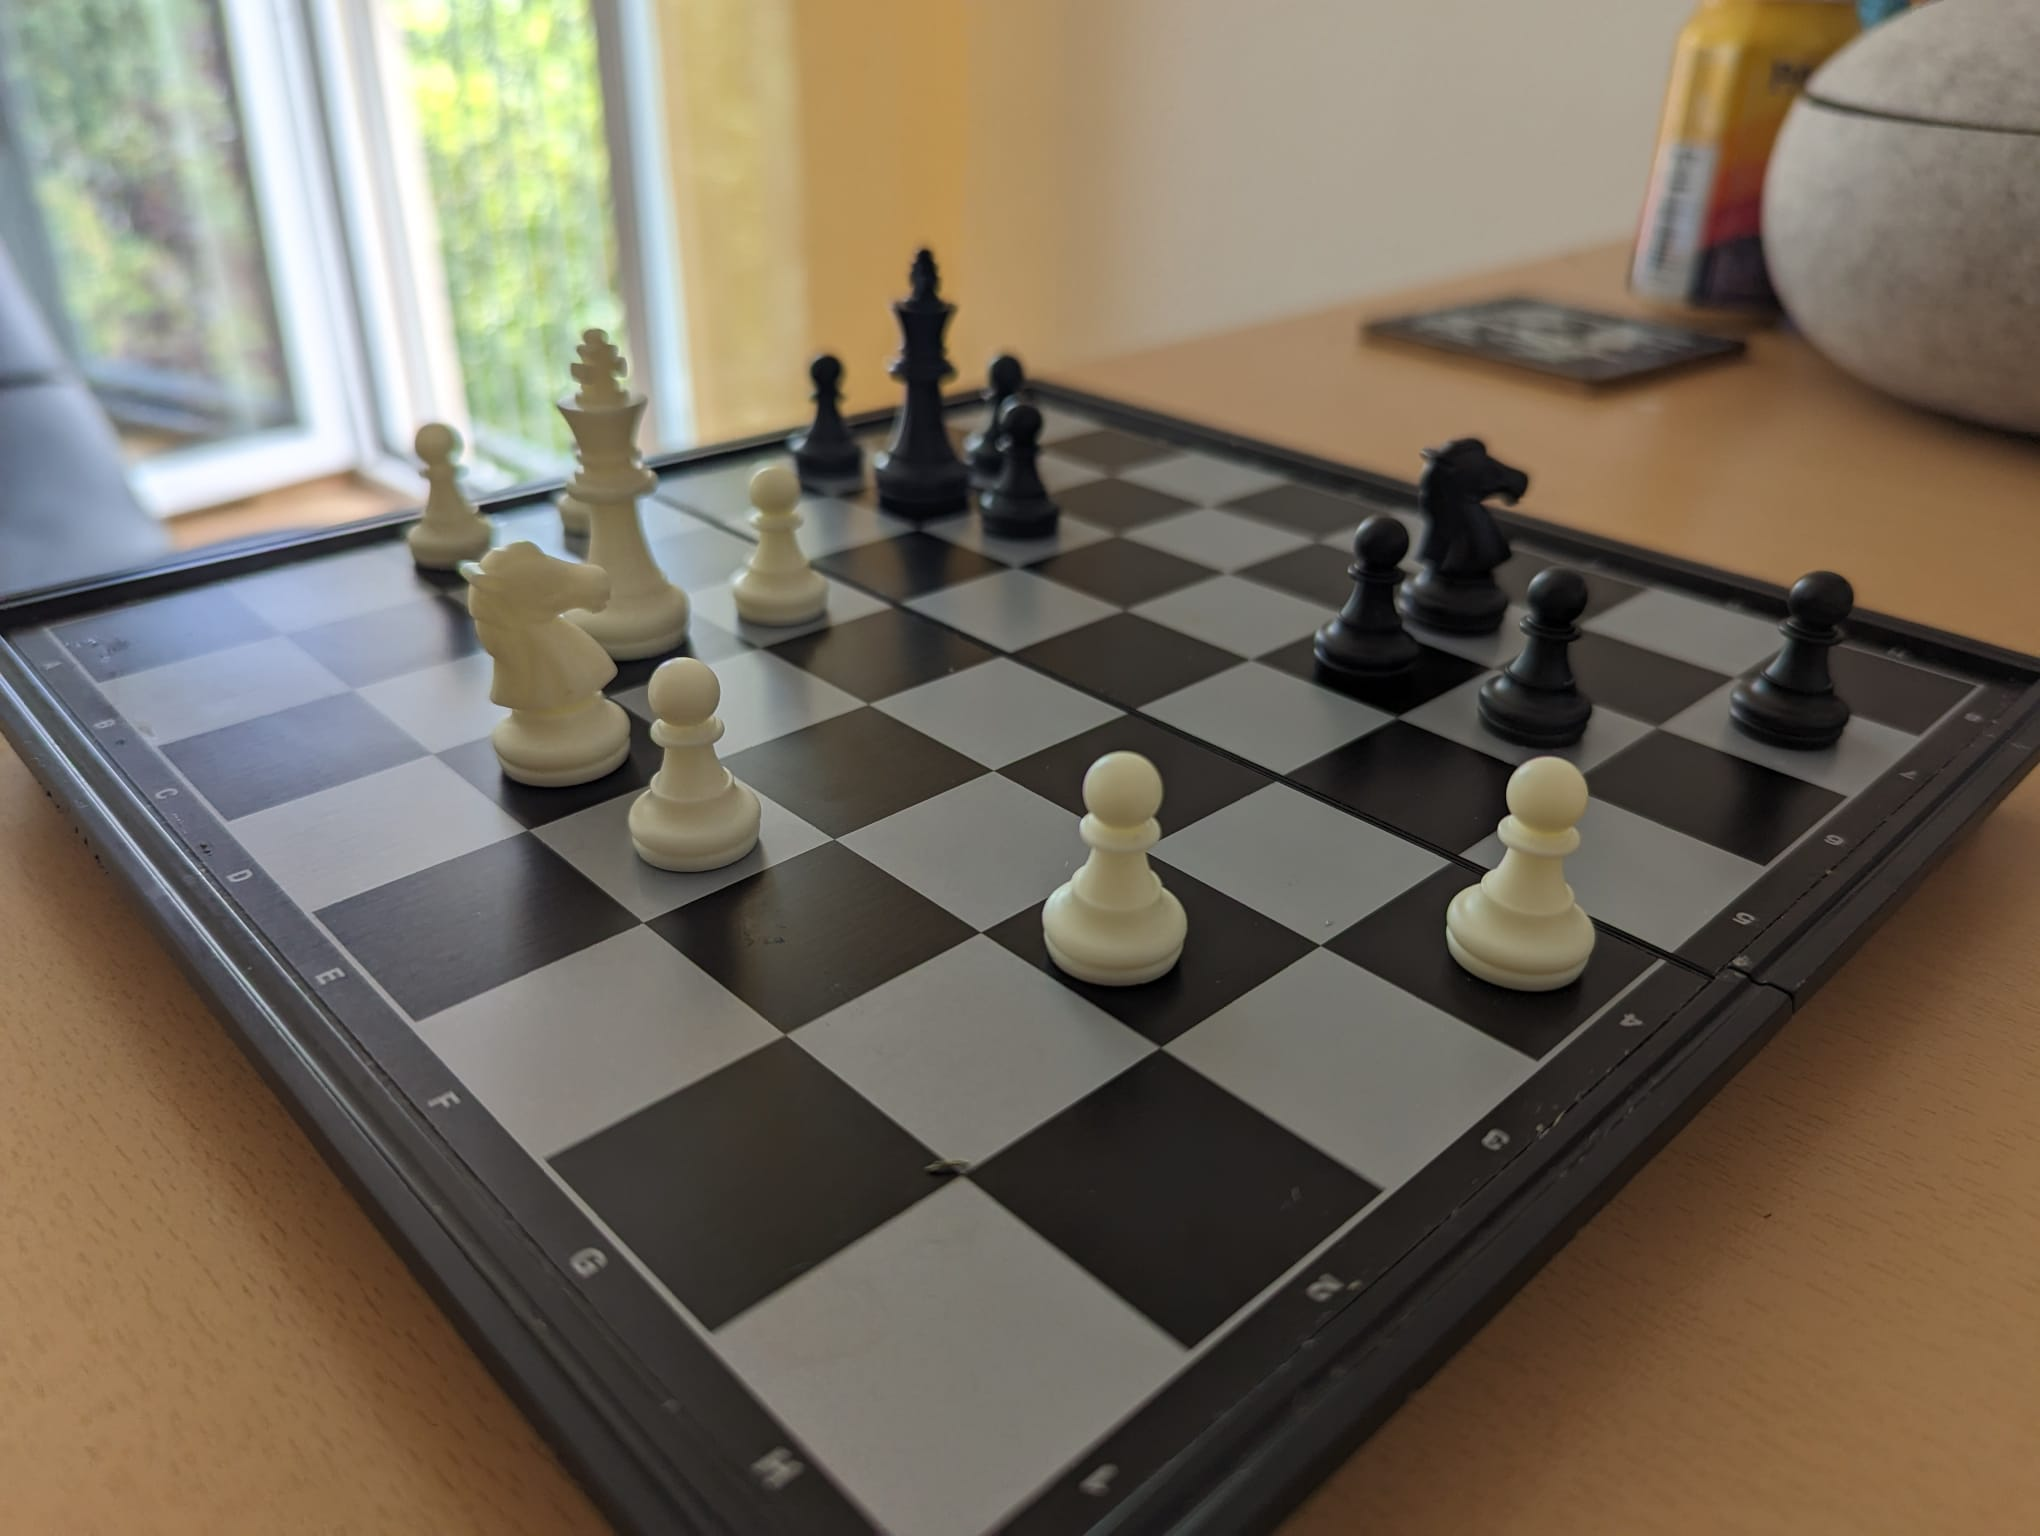BK: (871, 242, 971, 518)
BN: (1409, 432, 1530, 649)
BP: (1724, 570, 1861, 755), (1479, 561, 1600, 739), (1318, 511, 1418, 681), (980, 402, 1058, 544), (792, 357, 858, 478), (966, 350, 1032, 465)
WK: (556, 326, 693, 653)
WN: (460, 539, 631, 800)
WP: (1443, 750, 1601, 983), (1045, 749, 1187, 981), (624, 660, 764, 870), (732, 463, 832, 628), (398, 419, 493, 561)
